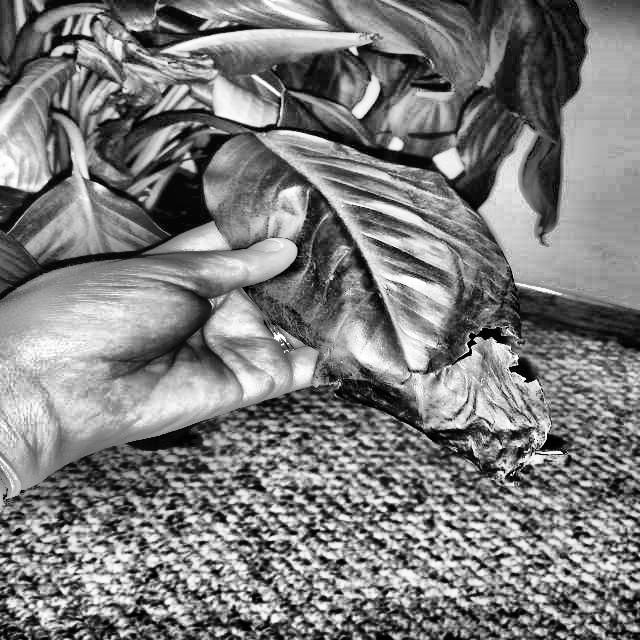plants: (6, 0, 606, 246), (220, 128, 582, 473)
